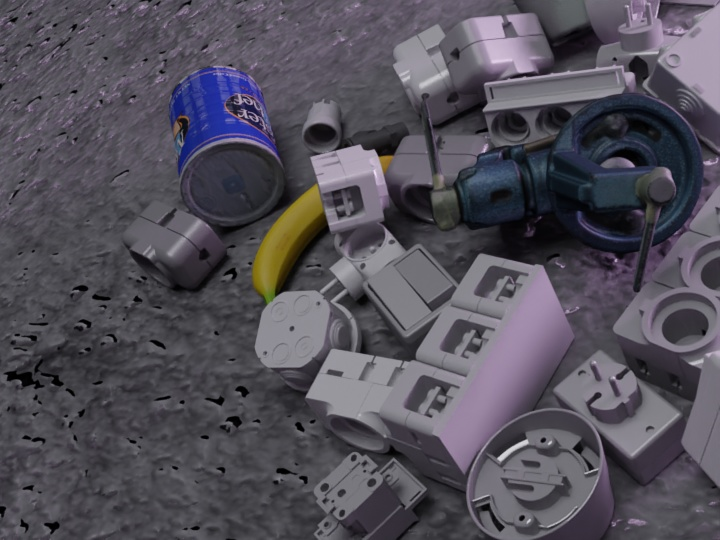Model 10: (313, 452, 427, 539)
Model 13: (302, 99, 341, 153)
Model 18: (466, 408, 613, 539), (584, 0, 659, 44)
Model 20: (553, 350, 686, 484)
Model 21: (596, 3, 679, 93)
Model 22: (320, 223, 405, 302)
Model 25: (362, 244, 458, 359)
Model 26: (681, 350, 719, 487)
Model 28: (642, 2, 719, 153)
Model 30: (255, 290, 361, 392)
Model 5: (439, 13, 553, 100), (384, 136, 494, 223), (122, 200, 226, 288), (392, 25, 478, 124)
Model 6: (305, 349, 408, 452), (310, 145, 389, 234)
Model 7: (379, 254, 574, 491), (613, 186, 719, 401)
Model 9: (483, 65, 636, 146)
